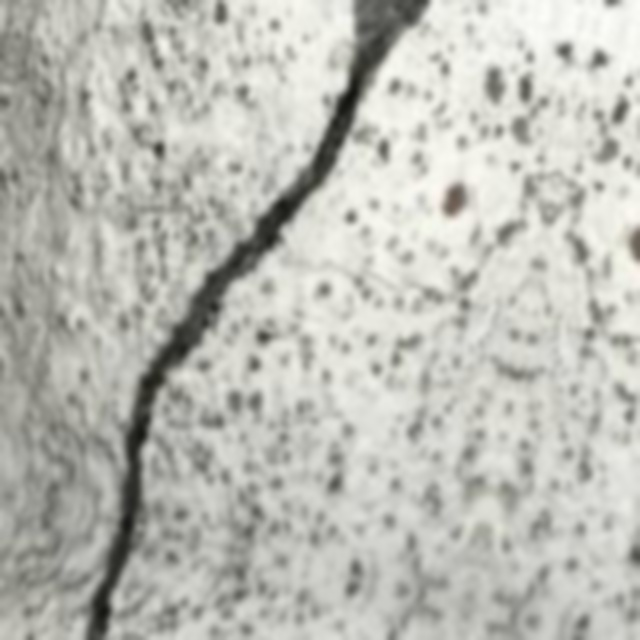SurfaceCrack: (58, 0, 450, 640)
